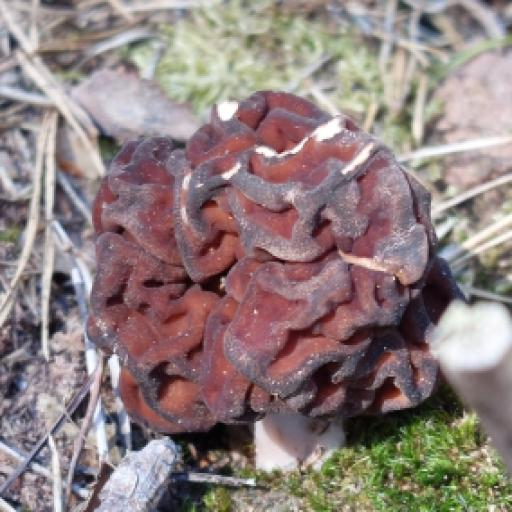False Morel: (63, 69, 470, 492)
